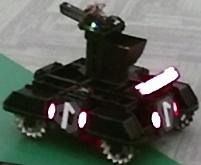armor_1: (48, 103, 87, 129), (151, 102, 178, 128)
light: (134, 66, 180, 95)
